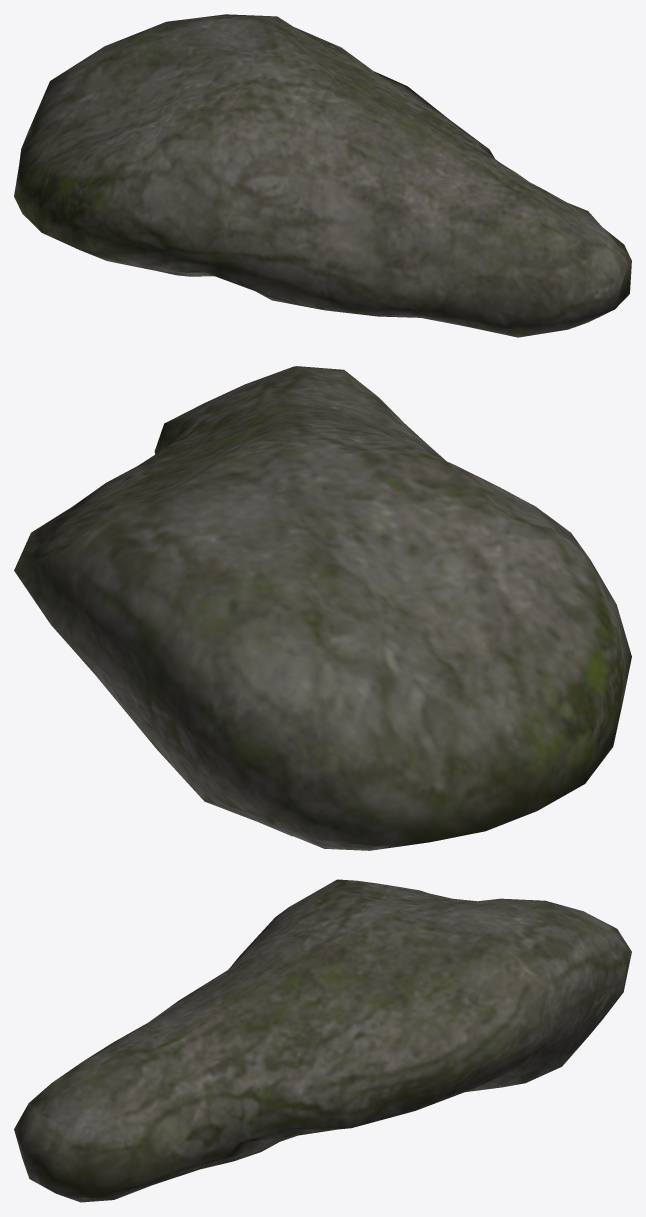
Rendered from rock2.glb.
3 views of the same model, one above another, from view 1: azimuth 30°, elevation 25°; view 2: azimuth 150°, elevation 25°; view 3: azimuth 270°, elevation 25° (orthographic). The views are drawn at different scales.
Parts seen in each view (by area): view 1: rock2_low_rocks_texture_0; view 2: rock2_low_rocks_texture_0; view 3: rock2_low_rocks_texture_0.
Part boxes in pixels (<box>): rock2_low_rocks_texture_0: <box>14,14,631,337</box>; rock2_low_rocks_texture_0: <box>14,366,631,850</box>; rock2_low_rocks_texture_0: <box>14,879,631,1202</box>.
Size of the model in its own units: 1.11 by 0.4865 by 1.33.
Materials: 1 (1 with a texture image).
